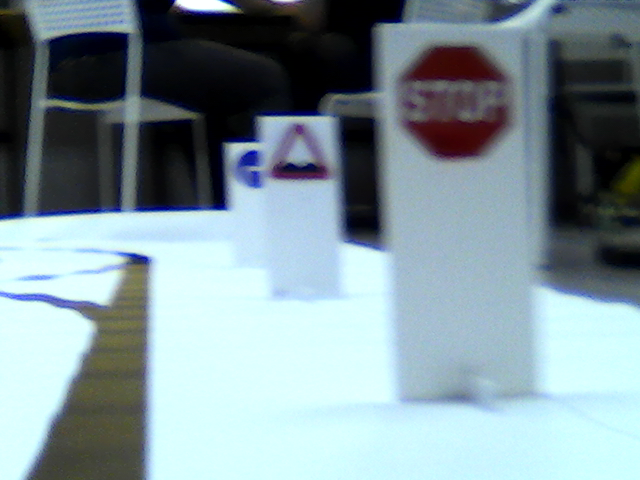Nerov: (272, 123, 327, 181)
Stop: (398, 46, 512, 159)
